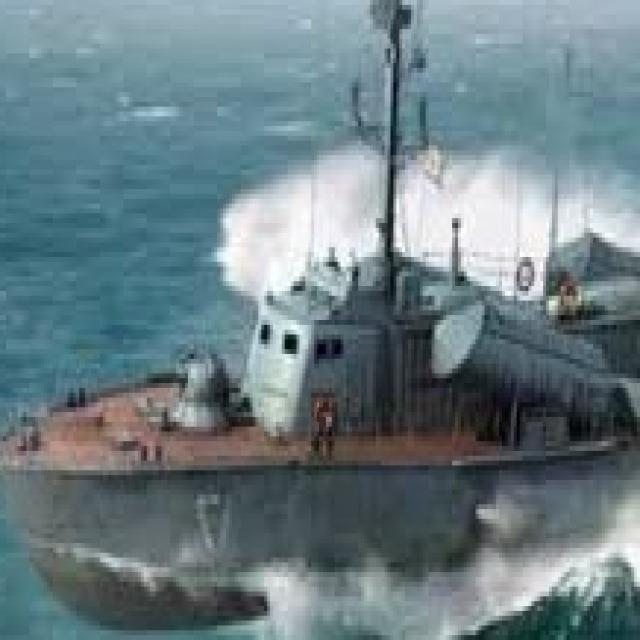navalvessels: (9, 36, 616, 612)
